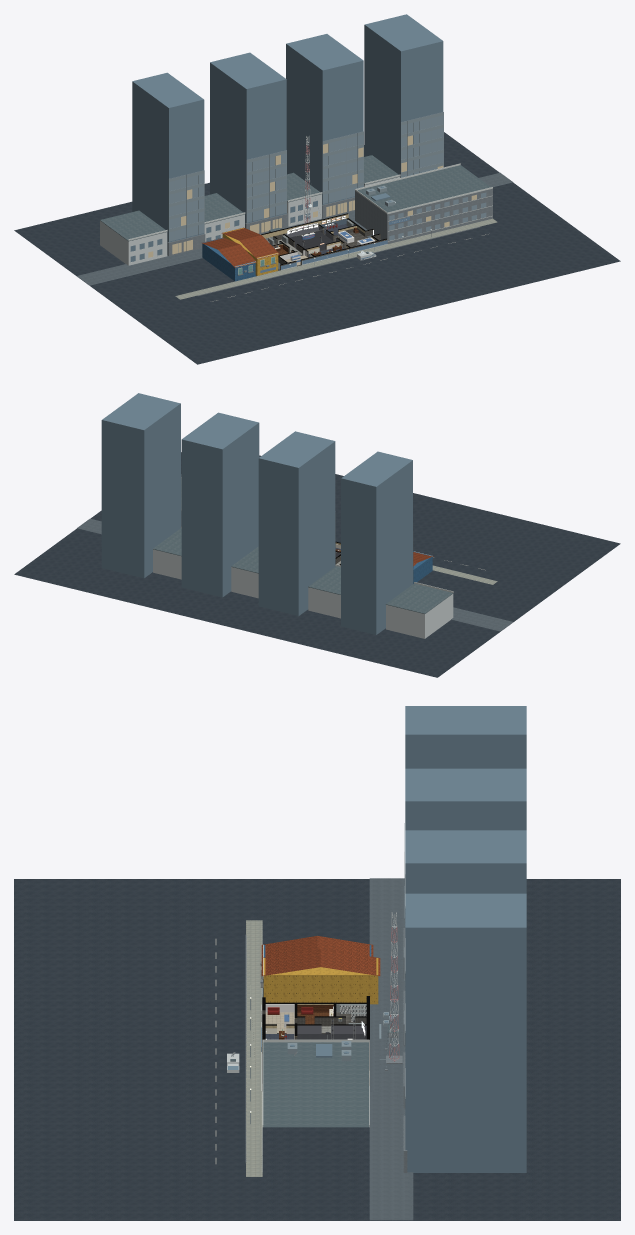
File: telerio.glb
3 views of the same model, one above another, from view 1: azimuth 30°, elevation 25°; view 2: azimuth 150°, elevation 25°; view 3: azimuth 270°, elevation 25° (orthographic). The views are drawn at different scales.
Parts seen in each view (by area): view 1: Lapa_t9_road, Lapa_t9_glass, Lapa_t9_glass_blue, Lapa_t9_roof, Lapa_t9_steel, Lapa_t9_concrete, Lapa_t9_white, Lapa_t9_yard, Lapa_t9_paving, Lapa_side_roof, Lapa_t9_office_lit, Lapa_t9_trim (+5 smaller); view 2: Lapa_t9_glass, Lapa_t9_road, Lapa_t9_white, Lapa_t9_roof, Lapa_t9_yard; view 3: Lapa_t9_road, Lapa_t9_glass, Lapa_t9_yard, Lapa_t9_roof, Lapa_t9_paving, Lapa_side_facade_yellow, Lapa_side_roof, Lapa_t9_concrete, Lapa_t9_steel, Lapa_cap, Lapa_t9_trim, Lapa_t9_white.
Part boxes in pixels (<box>): Lapa_t9_road: <box>14,132,620,364</box>; Lapa_t9_glass: <box>130,14,443,261</box>; Lapa_t9_glass_blue: <box>169,115,486,241</box>; Lapa_t9_roof: <box>100,155,490,253</box>; Lapa_t9_steel: <box>168,112,443,271</box>; Lapa_t9_concrete: <box>167,188,492,295</box>; Lapa_t9_white: <box>100,136,400,265</box>; Lapa_t9_yard: <box>77,172,512,285</box>; Lapa_t9_paving: <box>175,218,497,299</box>; Lapa_side_roof: <box>202,227,279,267</box>; Lapa_t9_office_lit: <box>148,135,476,257</box>; Lapa_t9_trim: <box>128,163,492,270</box>; Lapa_t9_glass: <box>101,393,412,634</box>; Lapa_t9_road: <box>14,452,620,677</box>; Lapa_t9_white: <box>153,549,453,638</box>; Lapa_t9_roof: <box>153,479,453,613</box>; Lapa_t9_yard: <box>77,518,512,631</box>; Lapa_t9_road: <box>14,879,620,1220</box>; Lapa_t9_glass: <box>227,706,526,1172</box>; Lapa_t9_yard: <box>369,878,413,1220</box>; Lapa_t9_roof: <box>230,1024,405,1127</box>; Lapa_t9_paving: <box>246,920,262,1176</box>; Lapa_side_facade_yellow: <box>263,958,378,1004</box>; Lapa_side_roof: <box>261,936,380,975</box>; Lapa_t9_concrete: <box>245,928,407,1172</box>; Lapa_t9_steel: <box>231,823,404,1161</box>; Lapa_cap: <box>262,996,369,1083</box>; Lapa_t9_trim: <box>261,874,405,1172</box>; Lapa_t9_white: <box>227,912,398,1072</box>.
Size of the model in its own units: 120 by 40.35 by 90.
65 materials, 20 textured.
